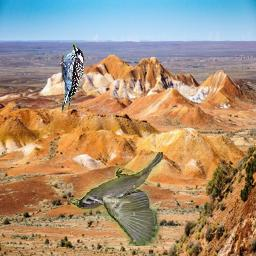Sparrow: (71, 152, 163, 246)
Woodpecker: (53, 39, 87, 115)
